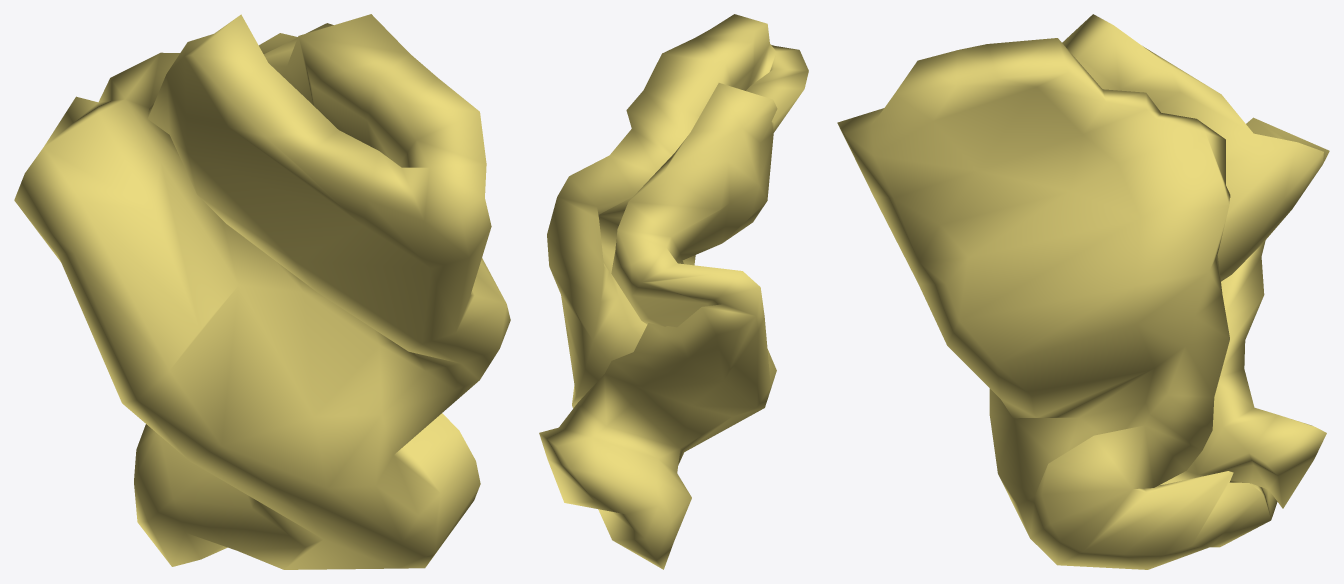
File: transverse-occipital-sulcus-l.glb
3 views of the same model, side by side, from view 1: azimuth 30°, elevation 25°; view 2: azimuth 150°, elevation 25°; view 3: azimuth 270°, elevation 25° (orthographic). The views are drawn at different scales.
Parts seen in each view (by area): view 1: Transverse occipital sulcus.l; view 2: Transverse occipital sulcus.l; view 3: Transverse occipital sulcus.l.
Boxes of the visible parts, <box> form: Transverse occipital sulcus.l: <box>14,14,510,569</box>; Transverse occipital sulcus.l: <box>539,14,808,569</box>; Transverse occipital sulcus.l: <box>837,14,1329,569</box>.
Bounding box in the file's own units: 0.0172 × 0.0288 × 0.0252.
